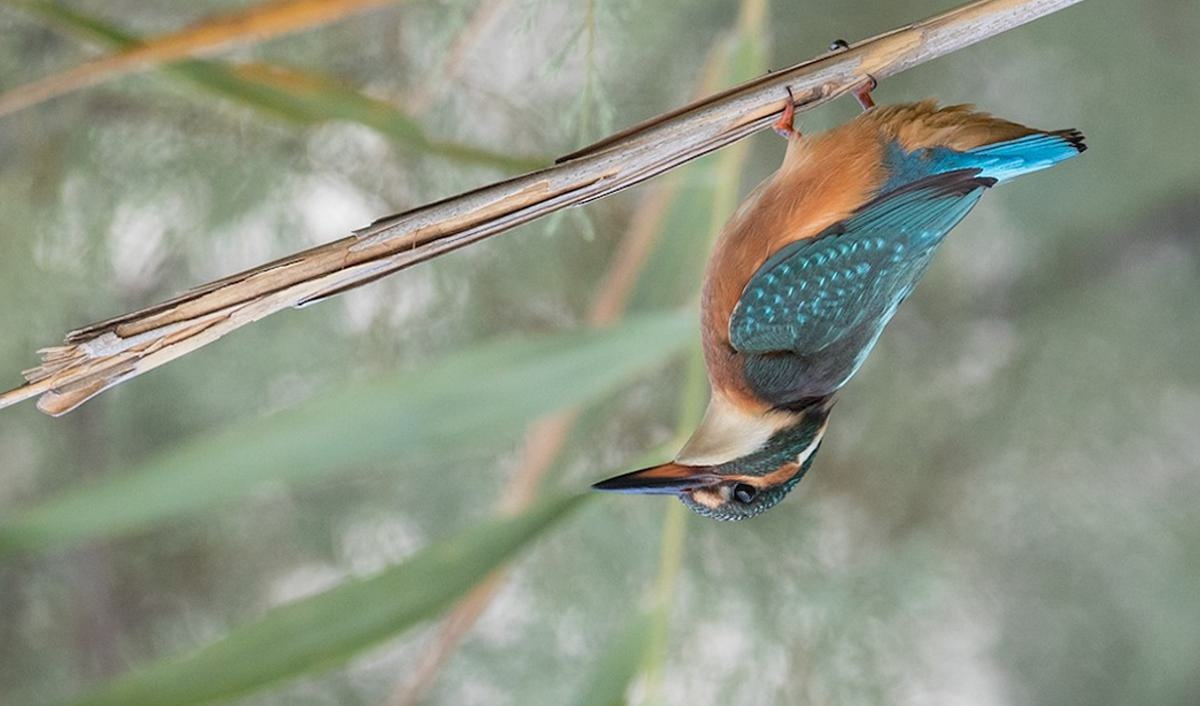kingfisher: (592, 48, 1063, 509)
